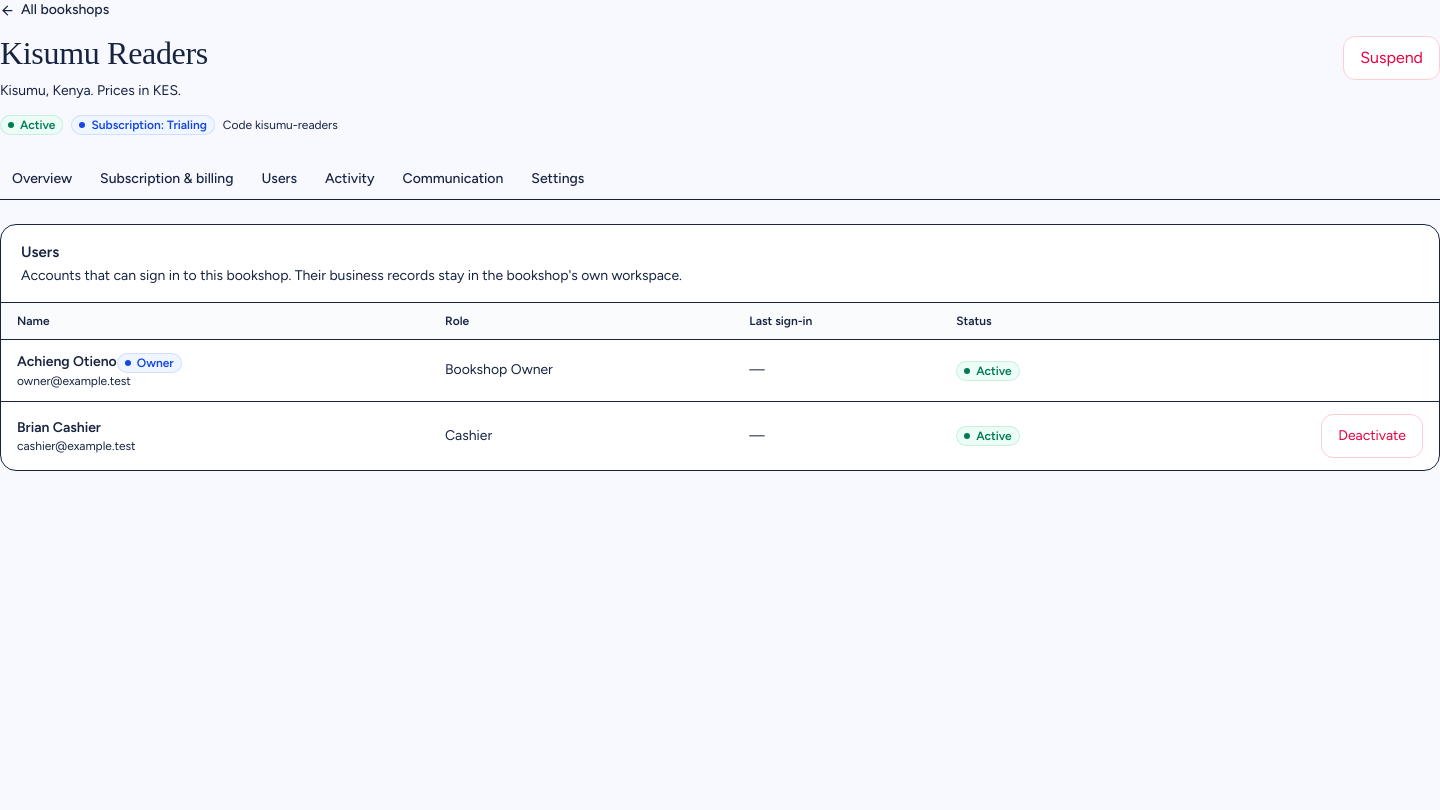
Bookshop workspace › deactivates a staff account only after confirmation and never offers it for the owner
Click the button "Deactivate" at (1372, 436), box [1321,414,1423,458]
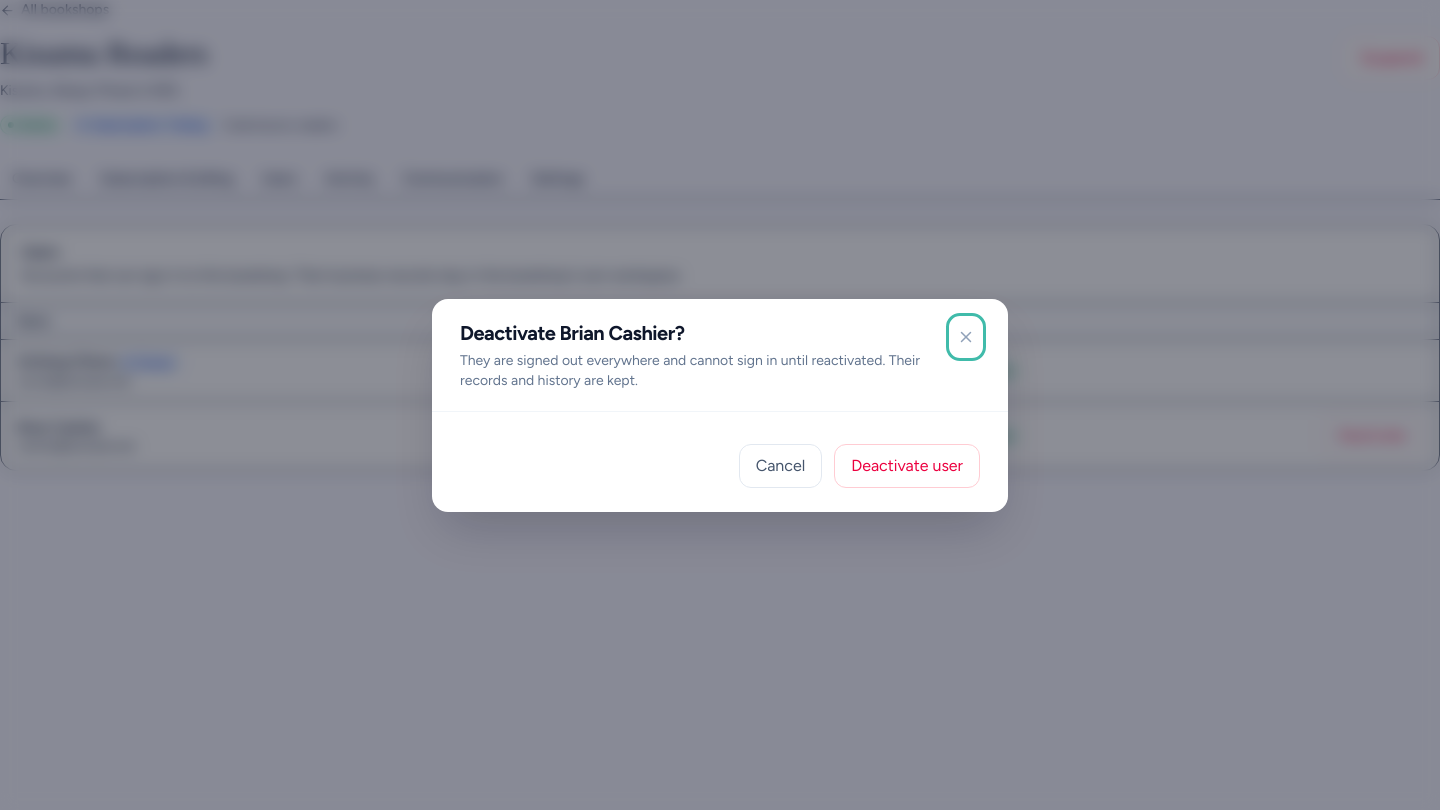
Click the button "Deactivate user" at (907, 466), box [834,444,980,488]
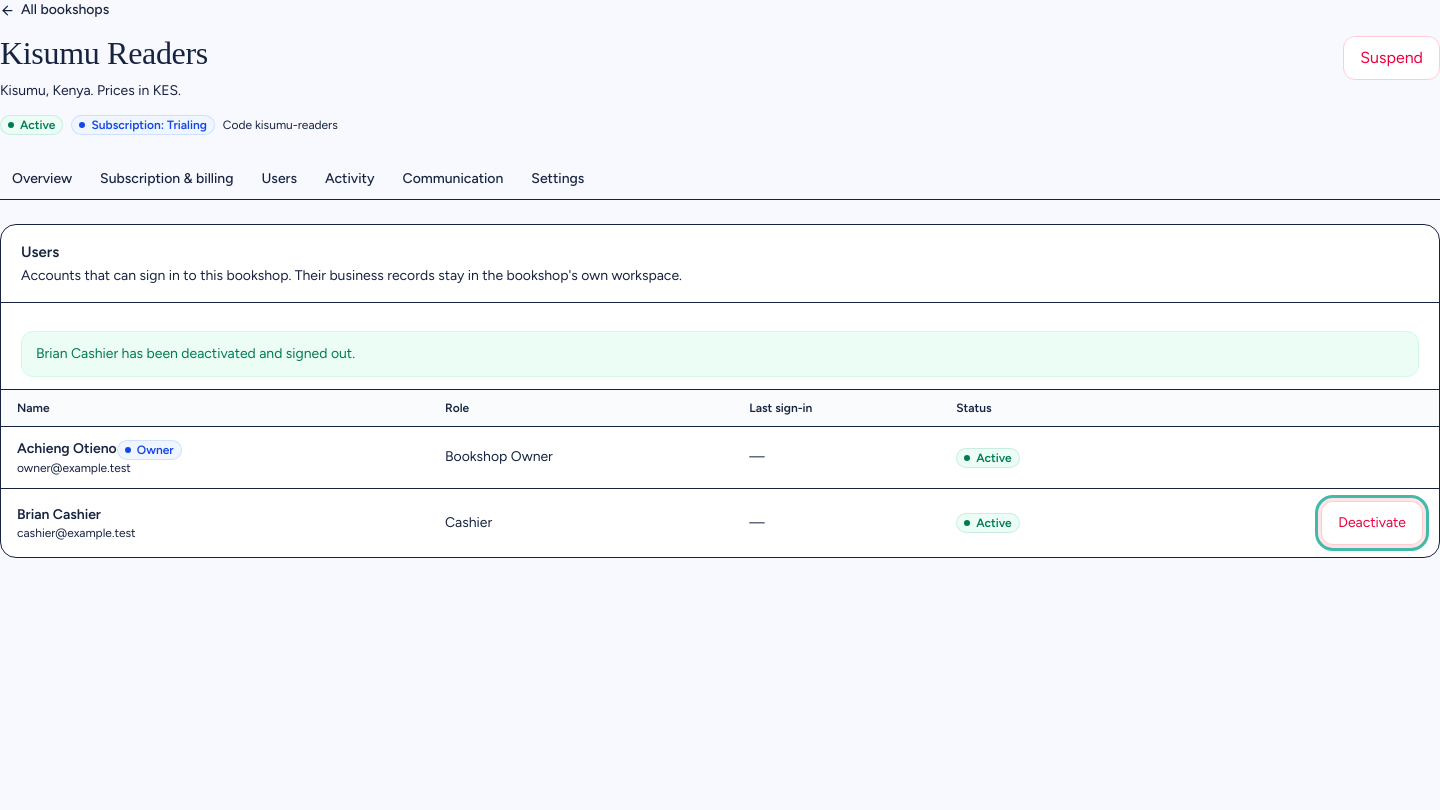
Check: the text "Brian Cashier has been deactivated and signed out." is shown, box [21,331,1419,377]
